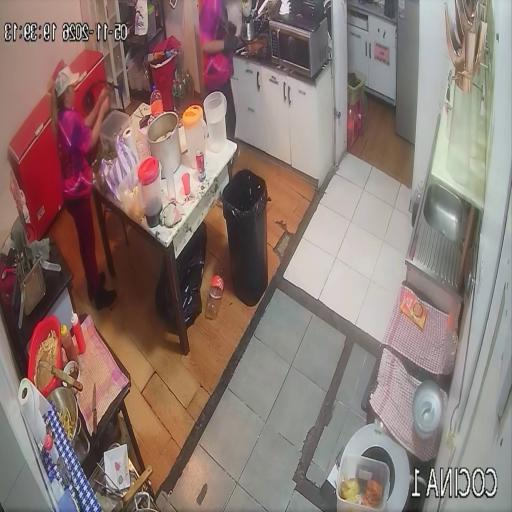Basurero: (222, 171, 267, 307)
Cuchillo1: (92, 380, 97, 433)
Envase Llajua: (61, 326, 77, 362)
Envase salsa: (71, 313, 86, 354)
Jarra1: (138, 157, 162, 228)
Jarra2: (182, 105, 208, 168)
Jarra3: (203, 91, 227, 152)
Microondas: (270, 18, 329, 76)
Persona1: (199, 0, 237, 134)
Persona2: (52, 67, 116, 308)
Tapa de olla: (413, 381, 444, 439)
Taper: (336, 452, 390, 512)
Taper2: (100, 110, 131, 151)
Taper4: (117, 163, 144, 221)
Vaso1: (182, 173, 190, 195)
botella: (150, 89, 167, 117)
olla1: (147, 112, 182, 179)
